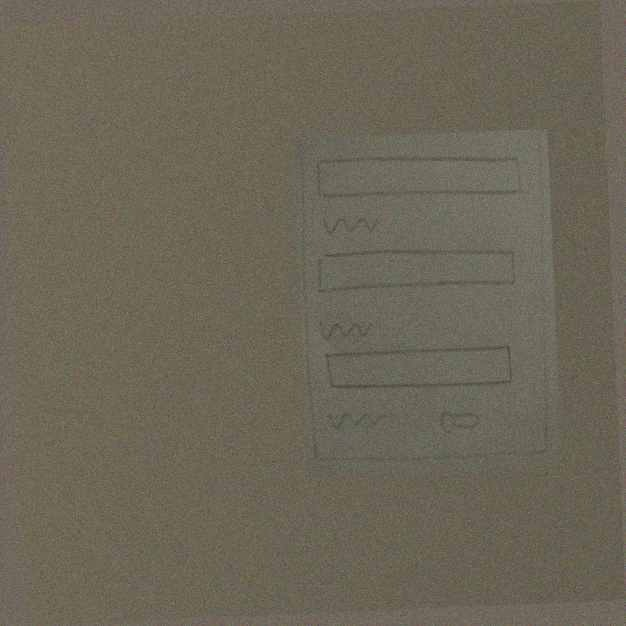switch: (436, 404, 484, 437)
text: (326, 406, 389, 434), (317, 212, 380, 238), (315, 316, 378, 342)
text_input: (313, 147, 524, 209), (311, 239, 522, 300), (323, 339, 515, 394)
